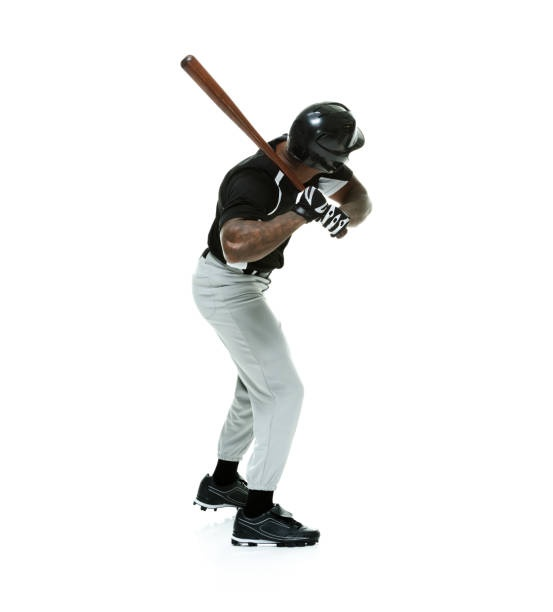bita: (178, 53, 319, 212)
